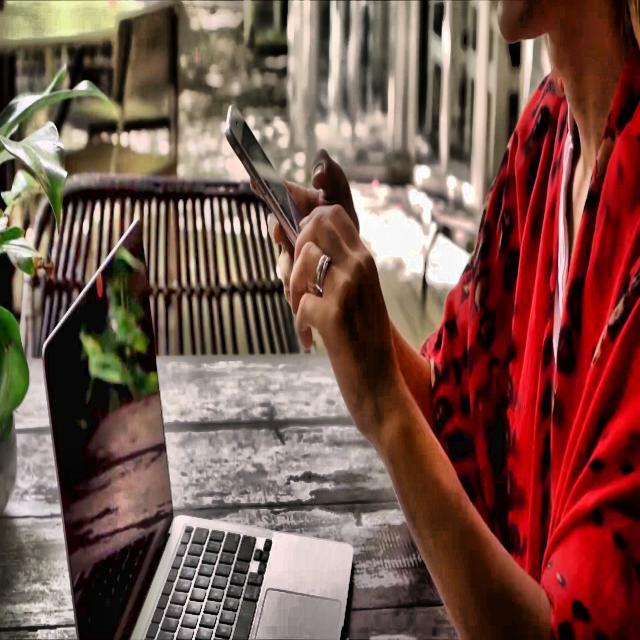Phone: (224, 96, 307, 262)
